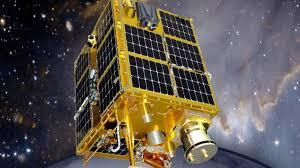body: (71, 0, 225, 168)
solar: (122, 7, 217, 109), (72, 0, 123, 155), (85, 133, 140, 157)
thruster: (177, 121, 219, 165)
